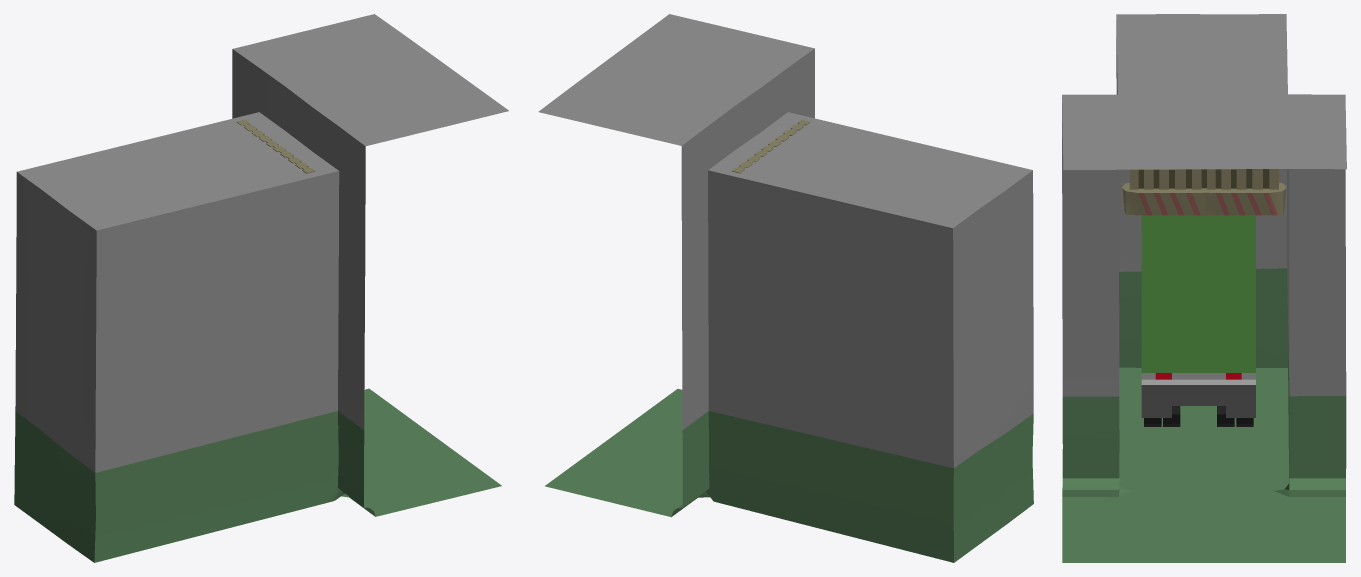
The model's file is Mapa8.fbx.
3 renders of one model, left to right at view 1: azimuth 30°, elevation 25°; view 2: azimuth 150°, elevation 25°; view 3: azimuth 270°, elevation 25°, orthographic. The views are drawn at different scales.
Visible parts, largest first — view 1: pCube18; view 2: pCube18; view 3: pCube18, pCylinder24.
Part boxes in pixels (<box>): pCube18: <box>14,14,508,562</box>; pCube18: <box>538,14,1033,562</box>; pCube18: <box>1062,14,1346,562</box>; pCylinder24: <box>1141,215,1255,426</box>.
Bounding box in the file's own units: 54.54 × 50.41 × 32.44.
